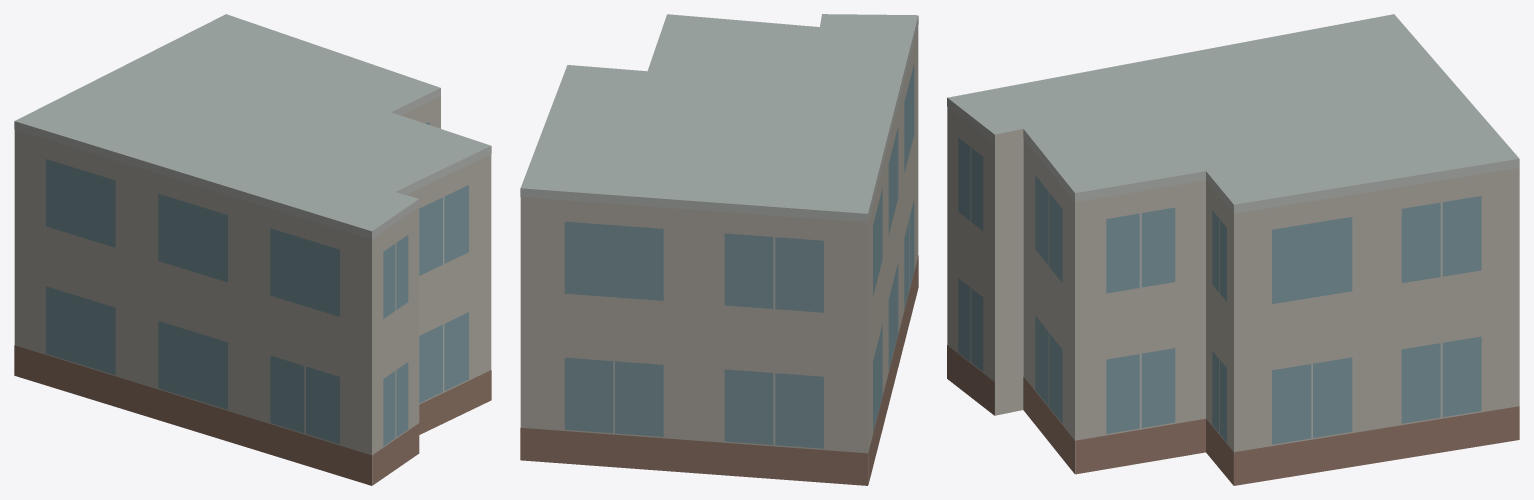
The model's file is survey-upis-32500708.glb.
3 renders of one model, left to right at view 1: azimuth 30°, elevation 25°; view 2: azimuth 150°, elevation 25°; view 3: azimuth 270°, elevation 25°, orthographic. The views are drawn at different scales.
Visible parts, largest first — view 1: survey-upis-32500708.tmp; view 2: survey-upis-32500708.tmp; view 3: survey-upis-32500708.tmp.
Boxes of the visible parts, bbox=[...] form: survey-upis-32500708.tmp: bbox=[14, 14, 491, 485]; survey-upis-32500708.tmp: bbox=[520, 14, 918, 485]; survey-upis-32500708.tmp: bbox=[947, 14, 1519, 485].
Bounding box in the file's own units: 11.07 × 7.6 × 14.03.
